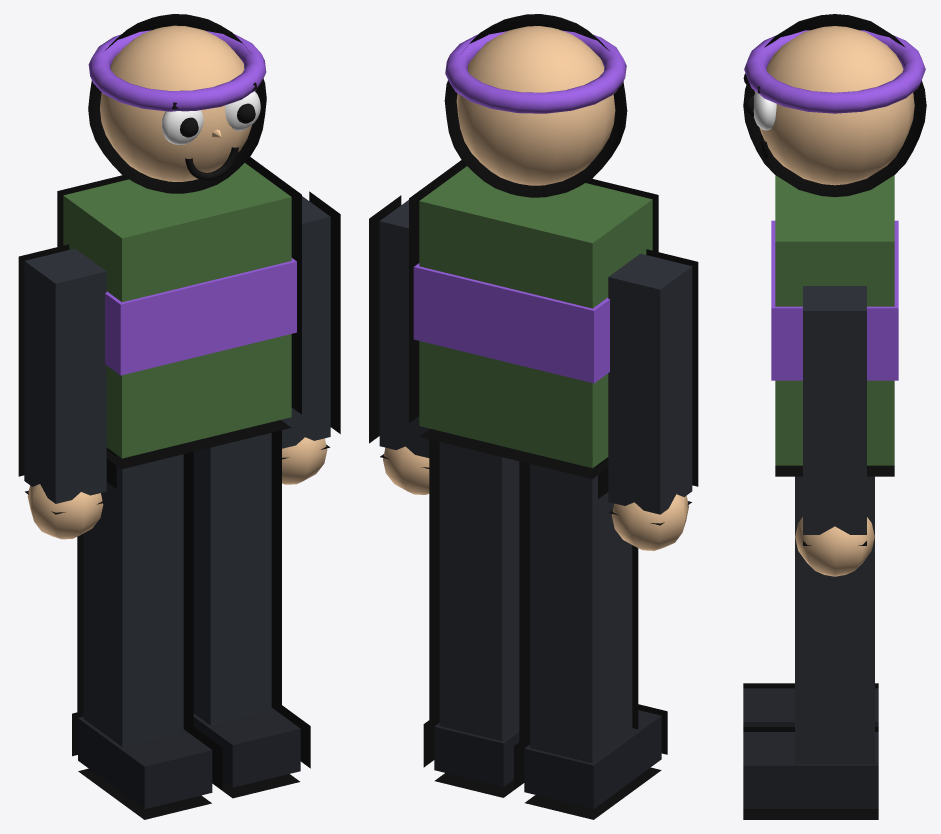
Rendered from human_ffa.glb.
The picture shows the model from 3 angles, left to right: view 1: azimuth 30°, elevation 25°; view 2: azimuth 150°, elevation 25°; view 3: azimuth 270°, elevation 25°; orthographic projection. The views are drawn at different scales.
Parts seen in each view (by area): view 1: human_ffa__part_2, human_ffa__part_27, human_ffa__part_32, human_ffa__part_19, human_ffa__part_4, human_ffa__part_6, human_ffa__part_29, human_ffa__part_23, human_ffa__headband, human_ffa__part_34, human_ffa__outline_3, human_ffa__outline_7 (+11 smaller); view 2: human_ffa__part_2, human_ffa__part_27, human_ffa__part_32, human_ffa__part_19, human_ffa__part_6, human_ffa__part_4, human_ffa__part_23, human_ffa__part_29, human_ffa__headband, human_ffa__outline_3, human_ffa__outline_7, human_ffa__outline_28 (+8 smaller); view 3: human_ffa__part_2, human_ffa__part_32, human_ffa__part_6, human_ffa__part_23, human_ffa__part_34, human_ffa__headband, human_ffa__part_4, human_ffa__outline_7, human_ffa__part_25, human_ffa__part_29, human_ffa__outline_35, human_ffa__outline_3 (+1 smaller).
Boxes of the visible parts, x1,y1,x2,y2 form: human_ffa__part_2: [63, 163, 291, 458]; human_ffa__part_27: [83, 454, 183, 746]; human_ffa__part_32: [193, 433, 271, 725]; human_ffa__part_19: [24, 248, 106, 503]; human_ffa__part_4: [105, 258, 296, 375]; human_ffa__part_6: [100, 25, 251, 181]; human_ffa__part_29: [78, 717, 212, 809]; human_ffa__part_23: [281, 196, 330, 448]; human_ffa__headband: [88, 30, 266, 111]; human_ffa__part_34: [193, 708, 300, 787]; human_ffa__outline_3: [57, 157, 301, 468]; human_ffa__outline_7: [88, 14, 266, 193]; human_ffa__part_2: [419, 166, 652, 468]; human_ffa__part_27: [530, 464, 632, 762]; human_ffa__part_32: [439, 442, 519, 740]; human_ffa__part_19: [608, 253, 692, 514]; human_ffa__part_6: [456, 26, 615, 185]; human_ffa__part_4: [413, 263, 609, 383]; human_ffa__part_23: [379, 200, 429, 457]; human_ffa__part_29: [524, 710, 661, 808]; human_ffa__headband: [445, 30, 626, 113]; human_ffa__outline_3: [409, 160, 658, 478]; human_ffa__outline_7: [444, 14, 627, 197]; human_ffa__outline_28: [519, 461, 638, 763]; human_ffa__part_2: [775, 175, 894, 465]; human_ffa__part_32: [795, 476, 874, 763]; human_ffa__part_6: [759, 26, 914, 185]; human_ffa__part_23: [803, 286, 866, 534]; human_ffa__part_34: [743, 732, 878, 808]; human_ffa__headband: [744, 30, 925, 113]; human_ffa__part_4: [771, 220, 898, 380]; human_ffa__outline_7: [743, 14, 926, 197]; human_ffa__part_25: [795, 517, 874, 576]; human_ffa__part_29: [743, 688, 878, 726]; human_ffa__outline_35: [743, 727, 878, 819]; human_ffa__outline_3: [775, 465, 894, 476].
Size of the model in its own units: 0.87 by 2.1 by 0.49.
